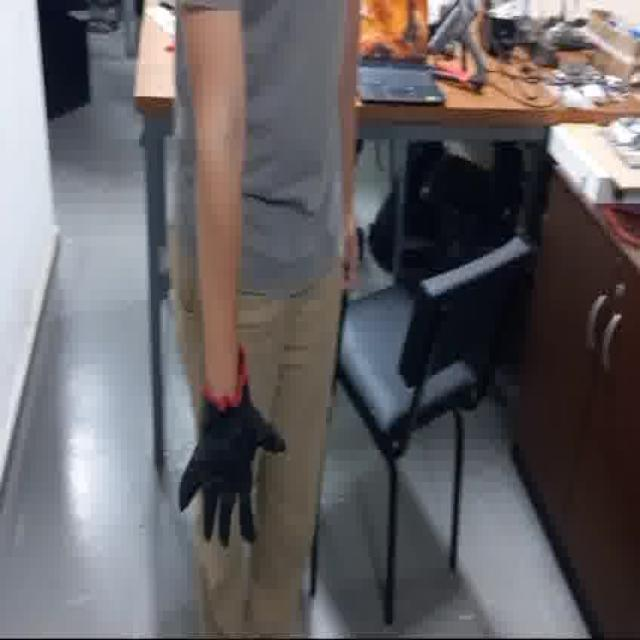Gloves: (178, 345, 288, 547)
